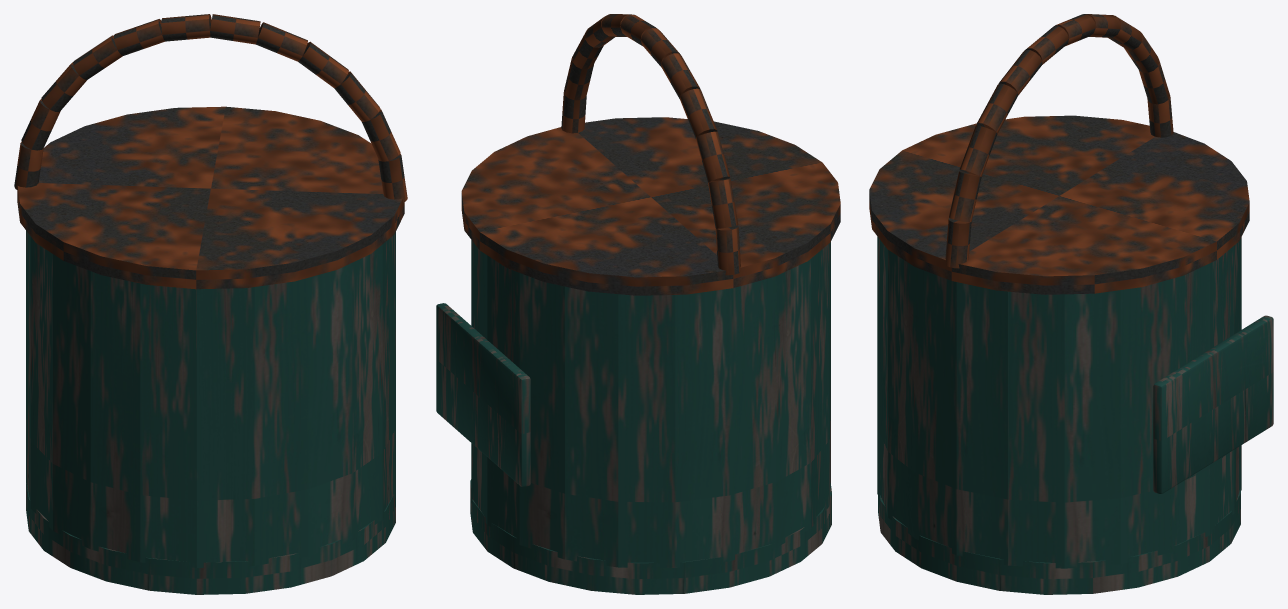
Rendered from SM_PaintCan_Closed_048ffc736a.fbx.
3 renders of one model, left to right at view 1: azimuth 30°, elevation 25°; view 2: azimuth 150°, elevation 25°; view 3: azimuth 270°, elevation 25°, orthographic. The views are drawn at different scales.
Visible parts, largest first — view 1: SM_PaintCan_Closed_048ffc736a; view 2: SM_PaintCan_Closed_048ffc736a; view 3: SM_PaintCan_Closed_048ffc736a.
Part boxes in pixels (x1,y1,x2,y2): SM_PaintCan_Closed_048ffc736a: (14,14,407,594); SM_PaintCan_Closed_048ffc736a: (436,14,840,594); SM_PaintCan_Closed_048ffc736a: (869,14,1273,594).
Size of what is drawn, in the model's own units: 26.1 by 27.74 by 37.29.
Materials: 2 (2 with a texture image).
